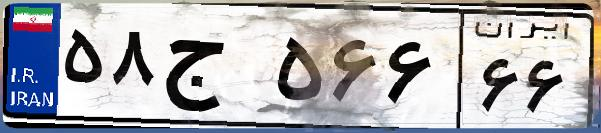5: (270, 28, 330, 110), (57, 26, 110, 100)
6: (385, 28, 445, 110), (330, 28, 385, 110), (475, 38, 525, 113), (525, 38, 570, 115)
8: (110, 28, 158, 98)
ج: (158, 20, 270, 120)
